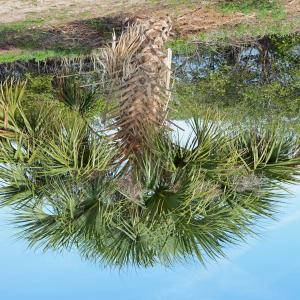palm tree: (0, 16, 300, 282)
